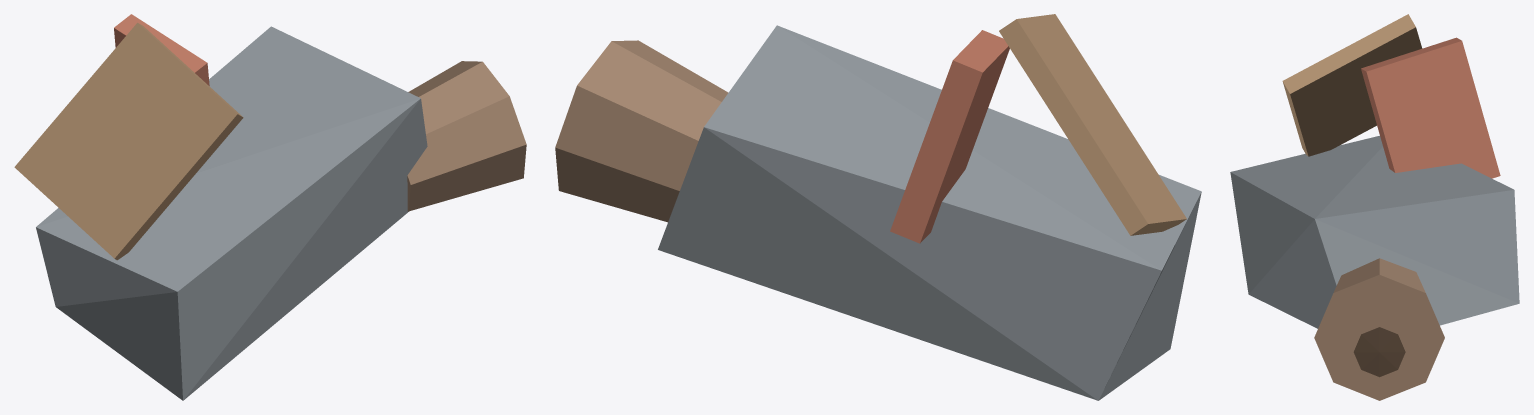
Rendered from tarhut_destroco_0.glb.
The picture shows the model from 3 angles, left to right: view 1: azimuth 30°, elevation 25°; view 2: azimuth 150°, elevation 25°; view 3: azimuth 270°, elevation 25°; orthographic projection. The views are drawn at different scales.
Parts seen in each view (by area): view 1: destroco; view 2: destroco; view 3: destroco.
Boxes of the visible parts, x1,y1,x2,y2 form: destroco: (14,14,526,400); destroco: (555,14,1201,400); destroco: (1230,14,1519,400).
Bounding box in the file's own units: 2.53 × 1.61 × 1.41.
